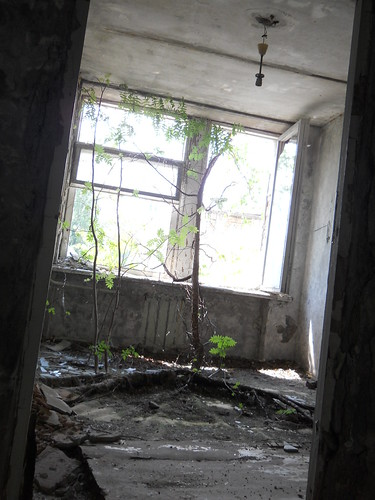tree: (84, 84, 226, 397)
window: (68, 86, 285, 300)
